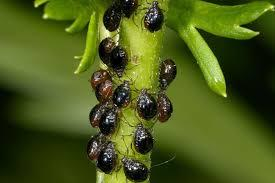insect: (121, 119, 158, 156), (109, 74, 140, 111), (116, 154, 154, 183), (136, 0, 169, 32), (95, 138, 124, 173), (134, 84, 157, 122), (86, 96, 113, 128), (107, 45, 132, 77), (158, 59, 181, 93), (154, 87, 176, 122), (97, 37, 121, 67), (97, 105, 119, 137), (102, 4, 126, 33), (110, 0, 142, 19), (93, 79, 116, 104), (90, 70, 113, 92)
